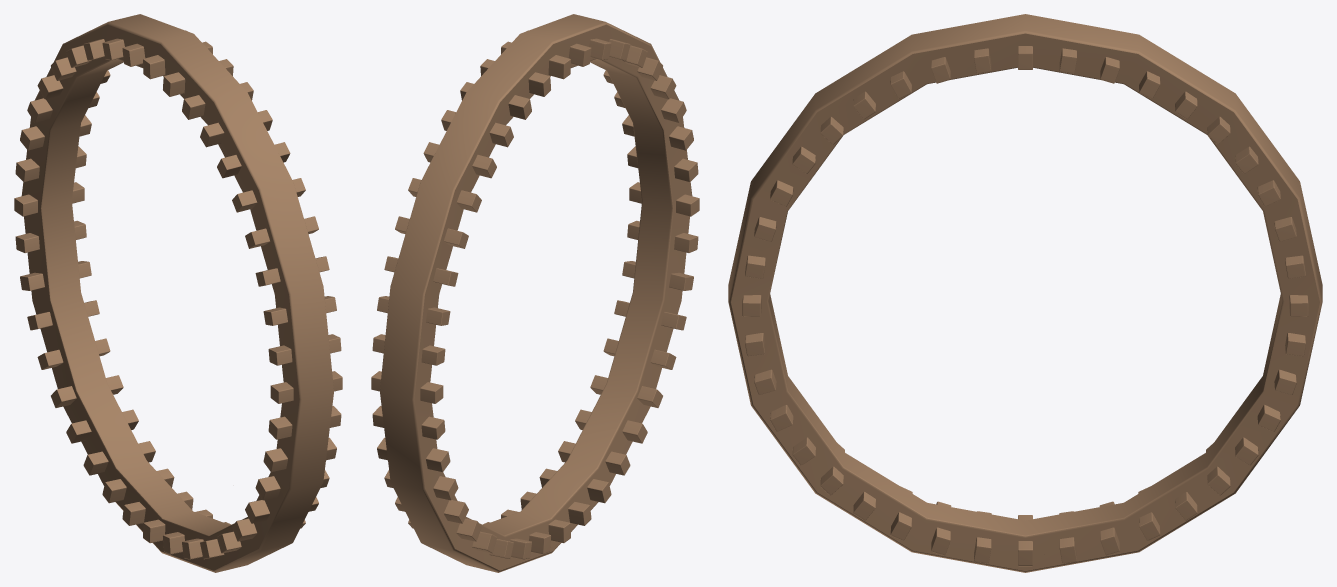
The model's file is Wheel_partsside.fbx.
The picture shows the model from 3 angles, left to right: view 1: azimuth 30°, elevation 25°; view 2: azimuth 150°, elevation 25°; view 3: azimuth 270°, elevation 25°; orthographic projection. The views are drawn at different scales.
Visible parts, largest first — view 1: Grinder_A1; view 2: Grinder_A1; view 3: Grinder_A1.
Boxes of the visible parts, <box> form: Grinder_A1: <box>14,14,342,572</box>; Grinder_A1: <box>371,14,699,572</box>; Grinder_A1: <box>728,14,1322,572</box>.
Size of the model in its own units: 0.4459 by 2.26 by 2.25.
